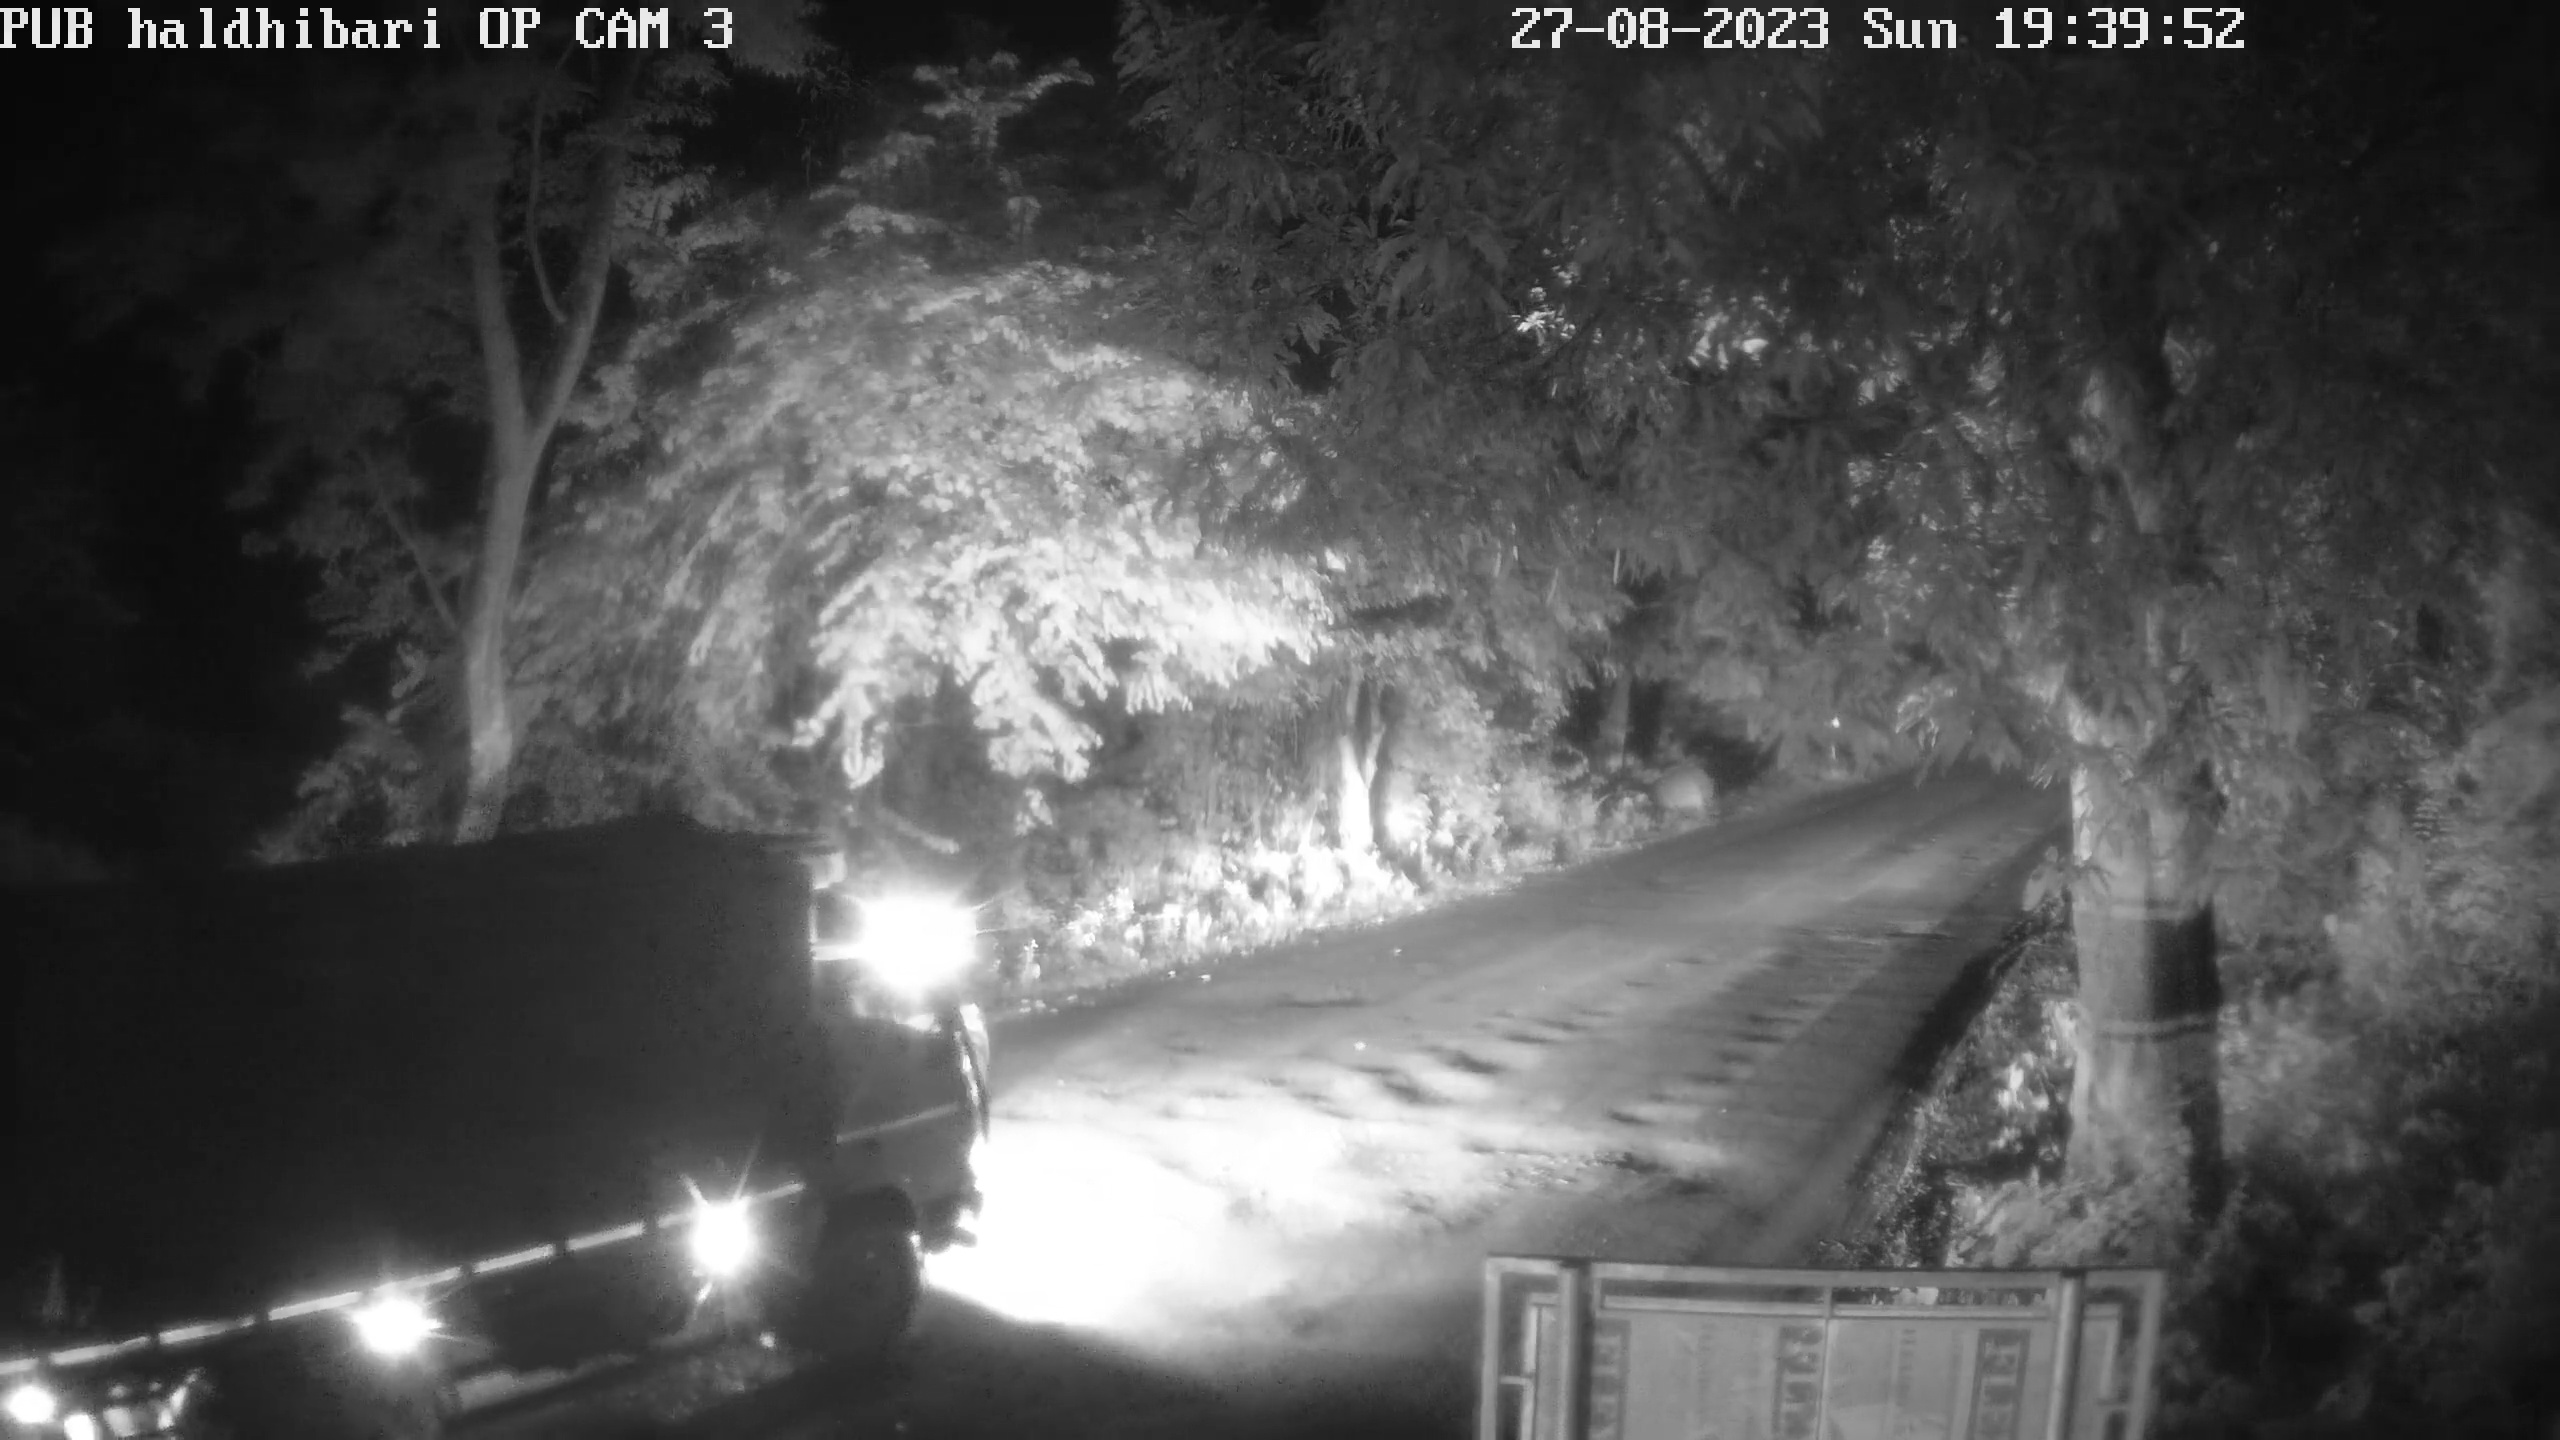rhinos: (1623, 758, 1725, 851)
